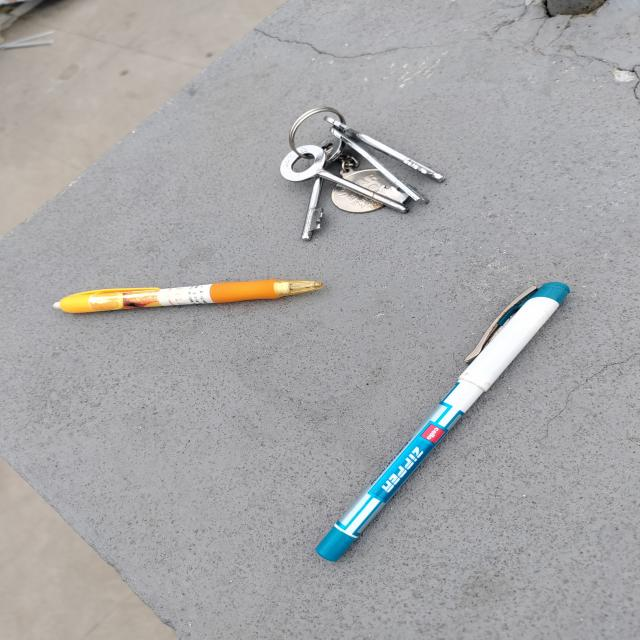metal: (280, 107, 444, 238)
plastic: (318, 280, 573, 558), (52, 278, 319, 316)
